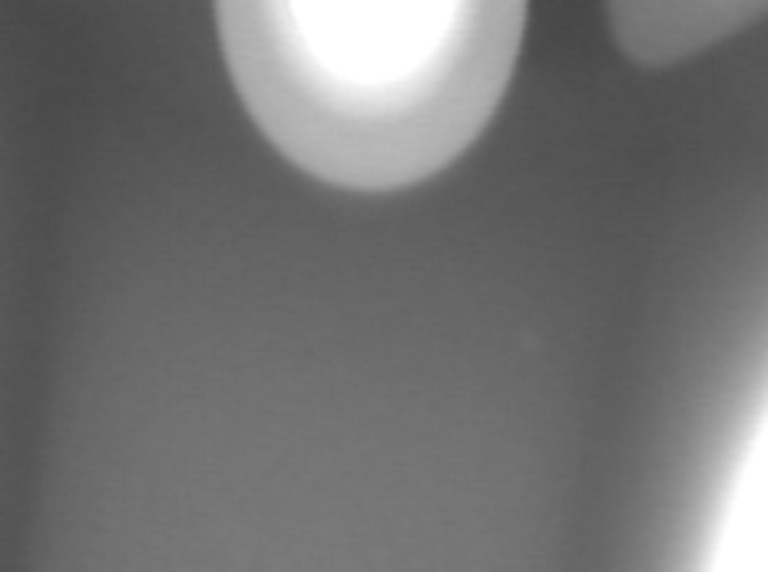defect: (513, 318, 559, 381)
